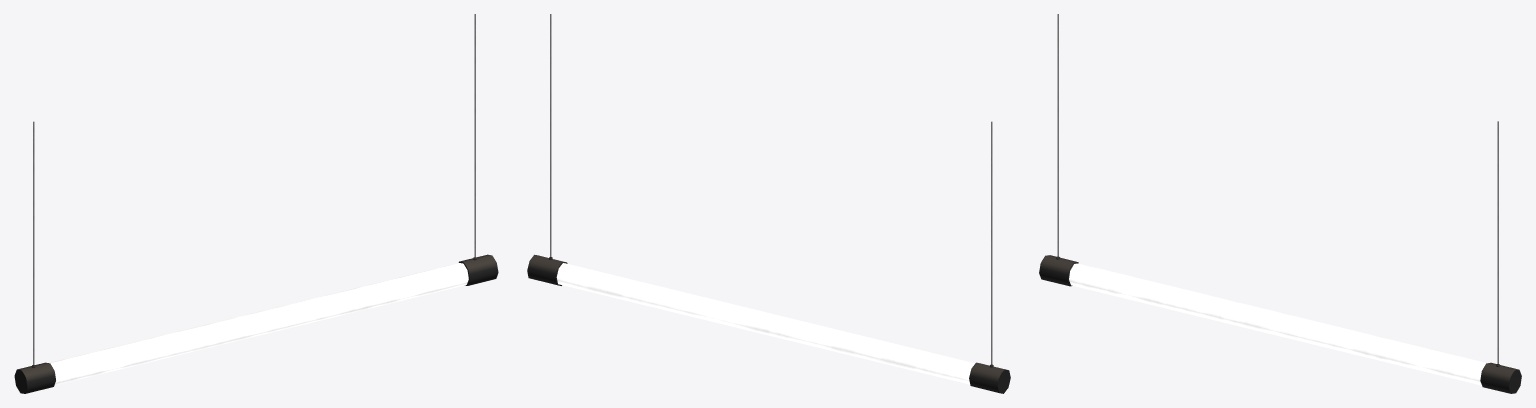
Rendered from SM_Light_01.fbx.
3 views of the same model, side by side, from view 1: azimuth 30°, elevation 25°; view 2: azimuth 150°, elevation 25°; view 3: azimuth 330°, elevation 25° (orthographic).
Parts seen in each view (by area): view 1: SM_Light_01_LOD0; view 2: SM_Light_01_LOD0; view 3: SM_Light_01_LOD0.
Part boxes in pixels (<box>): SM_Light_01_LOD0: <box>14,14,498,393</box>; SM_Light_01_LOD0: <box>527,14,1010,393</box>; SM_Light_01_LOD0: <box>1039,14,1521,393</box>.
Size of the model in its own units: 281 by 13.59 by 153.
